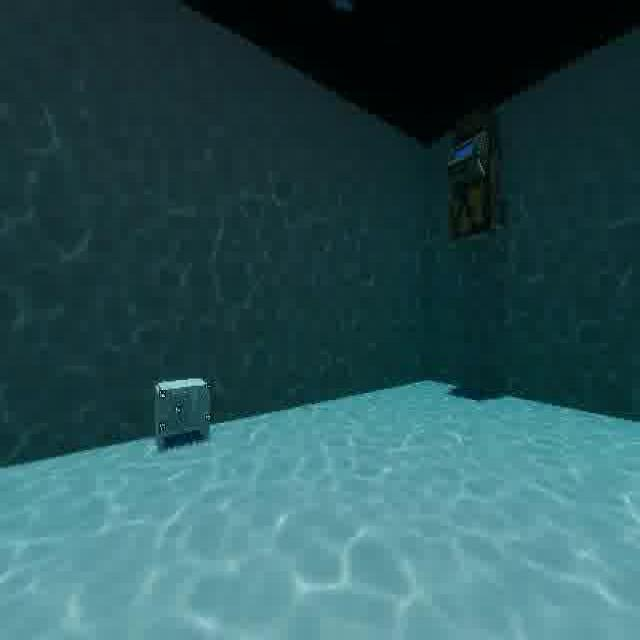Control Panel: (441, 113, 513, 247)
Docking Station: (146, 369, 220, 456)
